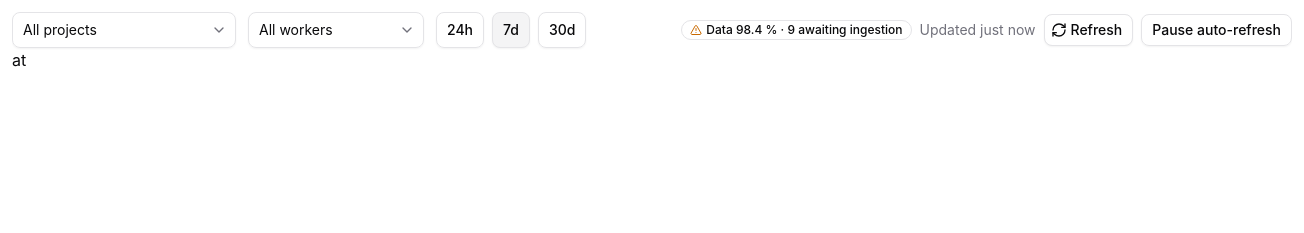
Test case: FlowToolbar › writes the worker and the range to the URL and reads again
The width and height of the screenshot is (1304, 233).
Expected: the link "Data 98.4 % · 9 awaiting ingestion" is shown, [681,20,912,40]
Click the dropdown labelled "worker" at (336, 30), box [248,12,424,48]
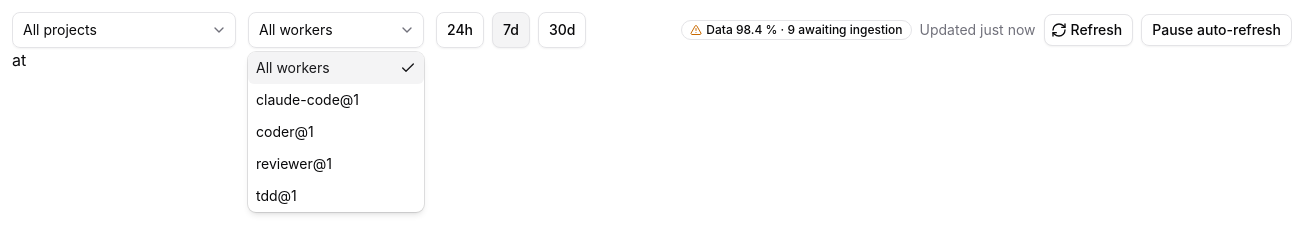
Click the option "tdd@1" at (276, 196), box [256,187,297,204]
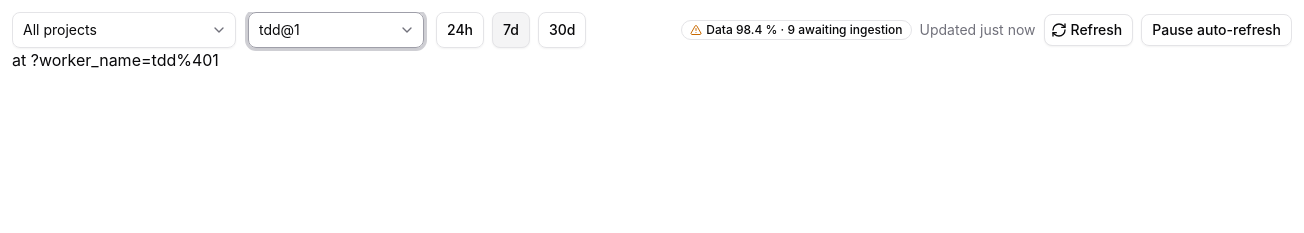
Click the button "30d" at (562, 30), box [538,12,586,48]
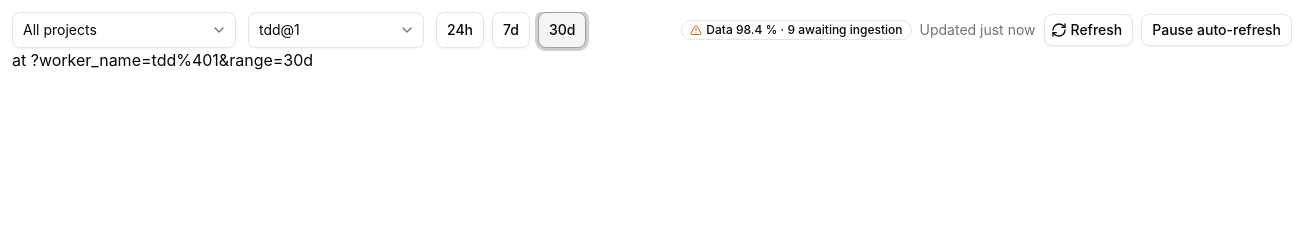
Now the text "at ?worker_name=tdd%401&range=30d" is shown, box [12,50,313,70]
